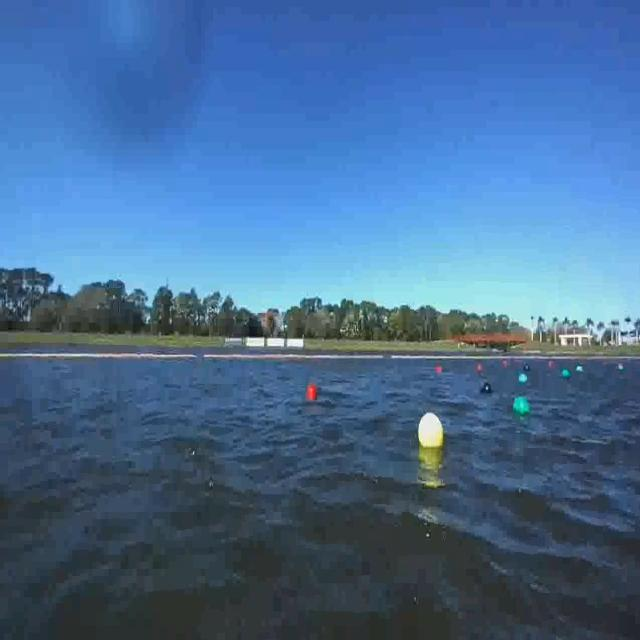black-buoy: (482, 380, 493, 392)
green-buoy: (513, 399, 528, 419), (563, 368, 572, 379)
red-buoy: (306, 382, 316, 399)
yellow-buoy: (418, 412, 443, 450)
